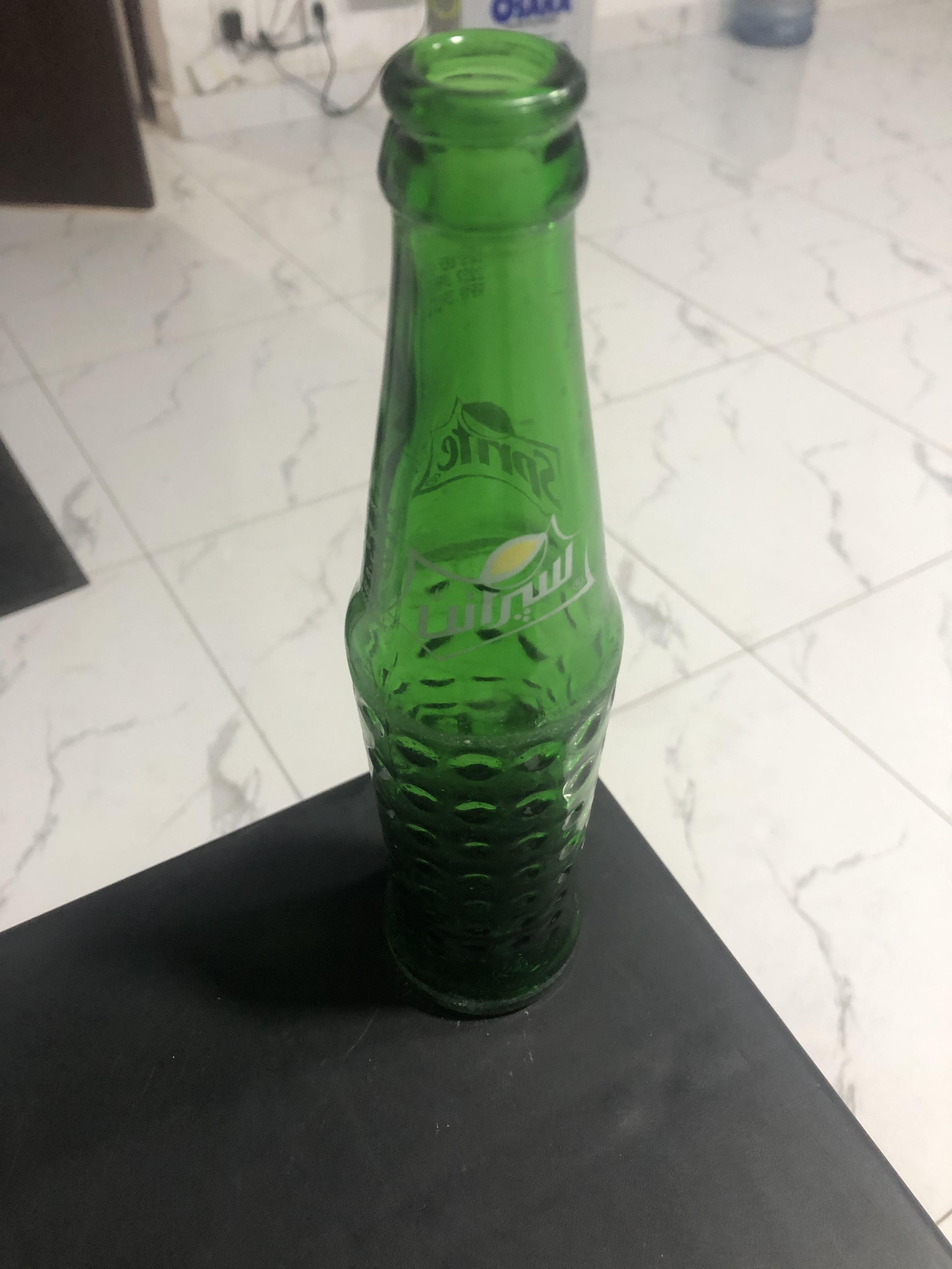bottle-glass: (341, 23, 624, 1009)
